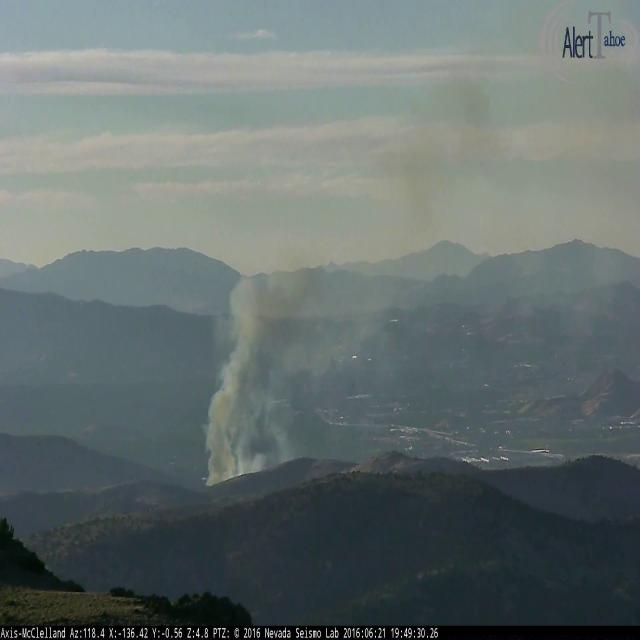smoke: (203, 64, 515, 484)
